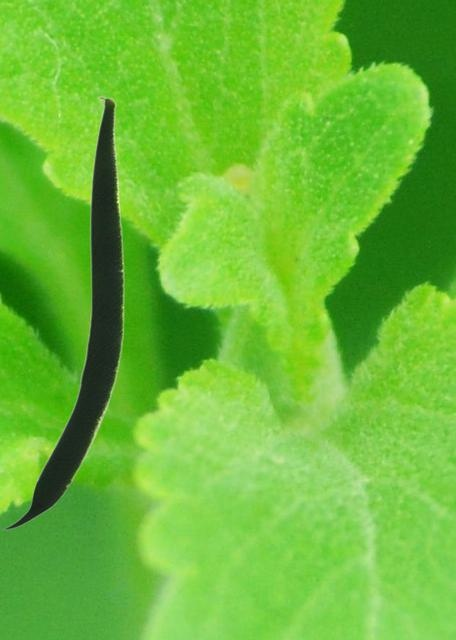french_bean: (2, 96, 123, 529)
